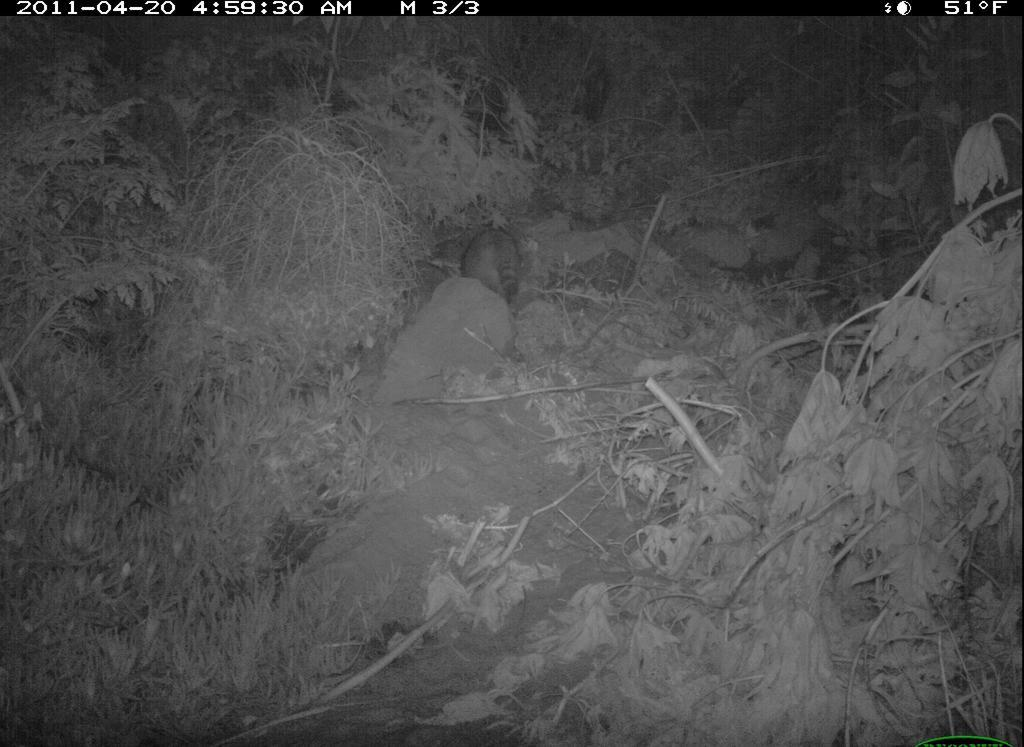raccoon: (450, 210, 550, 319)
